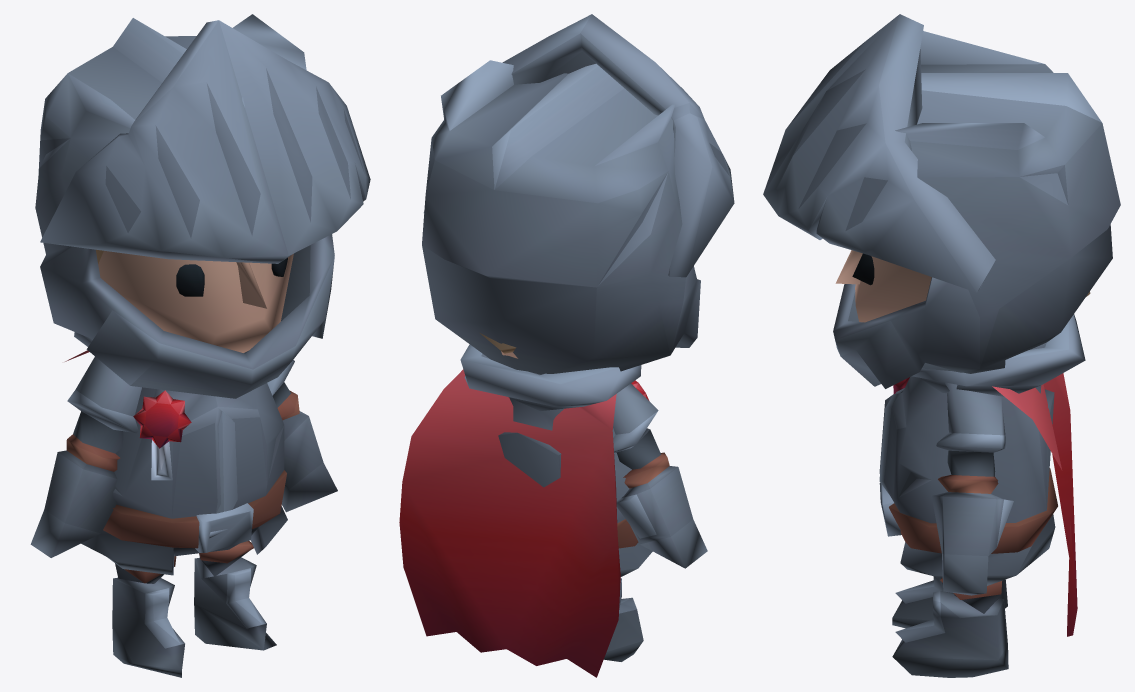
The model's file is soldier-2.glb.
3 renders of one model, left to right at view 1: azimuth 30°, elevation 25°; view 2: azimuth 150°, elevation 25°; view 3: azimuth 270°, elevation 25°, orthographic. The views are drawn at different scales.
Visible parts, largest first — view 1: soldier:2; view 2: soldier:2; view 3: soldier:2.
Part boxes in pixels (left/top/right/bottom): soldier:2: left=30, top=14, right=370, bottom=677; soldier:2: left=399, top=14, right=734, bottom=677; soldier:2: left=763, top=14, right=1120, bottom=677.
Bounding box in the file's own units: 0.605 × 1.3 × 0.6685.
1 material, 1 textured.
